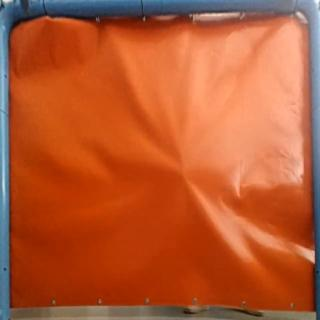Hit-hRxx: (177, 167, 191, 180)
